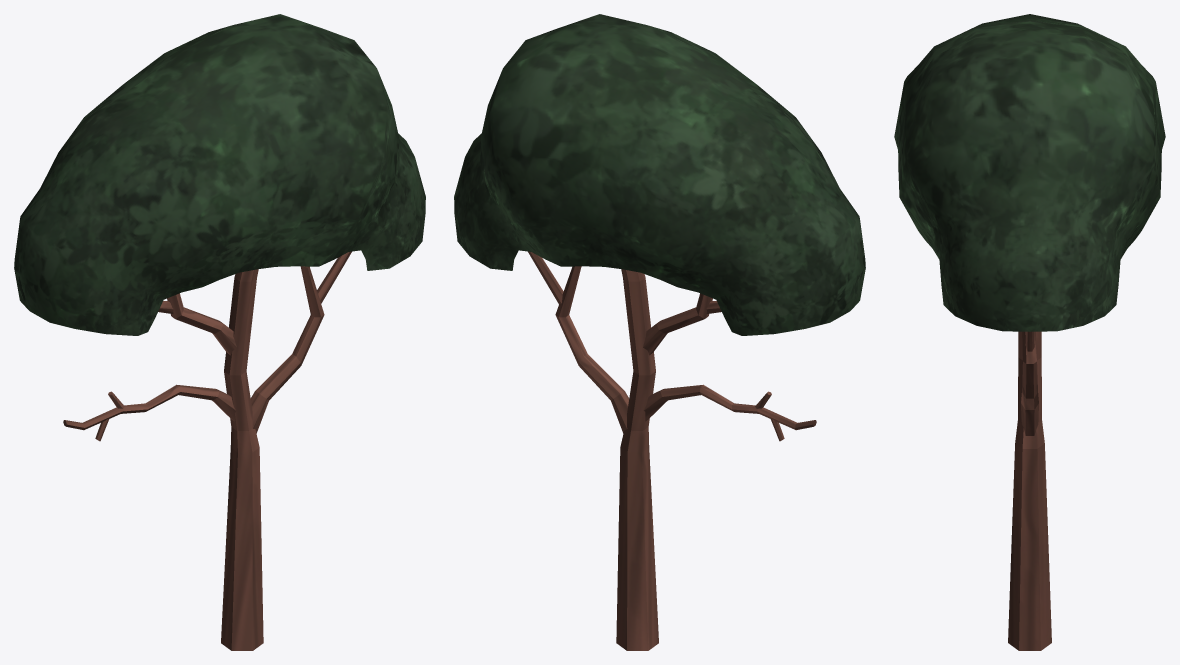
The model's file is ArvoreGrandeMataAtlantica.fbx.
The picture shows the model from 3 angles, left to right: view 1: azimuth 30°, elevation 25°; view 2: azimuth 150°, elevation 25°; view 3: azimuth 270°, elevation 25°; orthographic projection. The views are drawn at different scales.
Parts seen in each view (by area): view 1: ArvoreGrandeMataAtlantica; view 2: ArvoreGrandeMataAtlantica; view 3: ArvoreGrandeMataAtlantica.
Boxes of the visible parts, left/top/right/bottom form: ArvoreGrandeMataAtlantica: left=14, top=14, right=425, bottom=650; ArvoreGrandeMataAtlantica: left=454, top=14, right=865, bottom=650; ArvoreGrandeMataAtlantica: left=894, top=14, right=1165, bottom=650.
Size of the model in its own units: 189 by 276 by 109.
